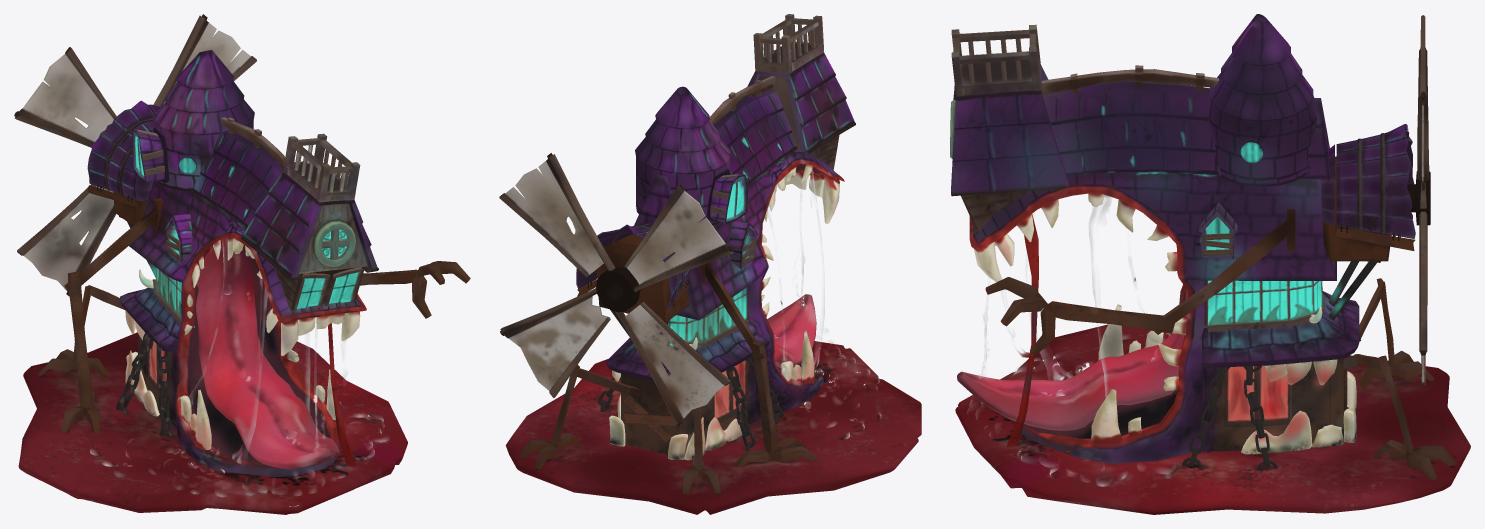
Rendered from home_monster.glb.
3 renders of one model, left to right at view 1: azimuth 30°, elevation 25°; view 2: azimuth 150°, elevation 25°; view 3: azimuth 270°, elevation 25°, orthographic. The views are drawn at different scales.
Visible parts, largest first — view 1: Object_3, Object_4, Object_2, Object_5; view 2: Object_3, Object_4, Object_5, Object_2; view 3: Object_4, Object_3, Object_2, Object_5.
Boxes of the visible parts, x1,y1,x2,y2 form: Object_3: (17,22,470,514); Object_4: (15,14,417,495); Object_2: (24,55,423,497); Object_5: (14,47,444,466); Object_3: (505,95,921,514); Object_4: (499,14,879,468); Object_5: (519,38,846,493); Object_2: (521,149,881,469); Object_4: (951,14,1429,467); Object_3: (950,16,1470,514); Object_2: (957,133,1453,486); Object_5: (951,36,1441,480).
Size of the model in its own units: 463 by 451 by 497.
Materials: 1 (1 with a texture image).
